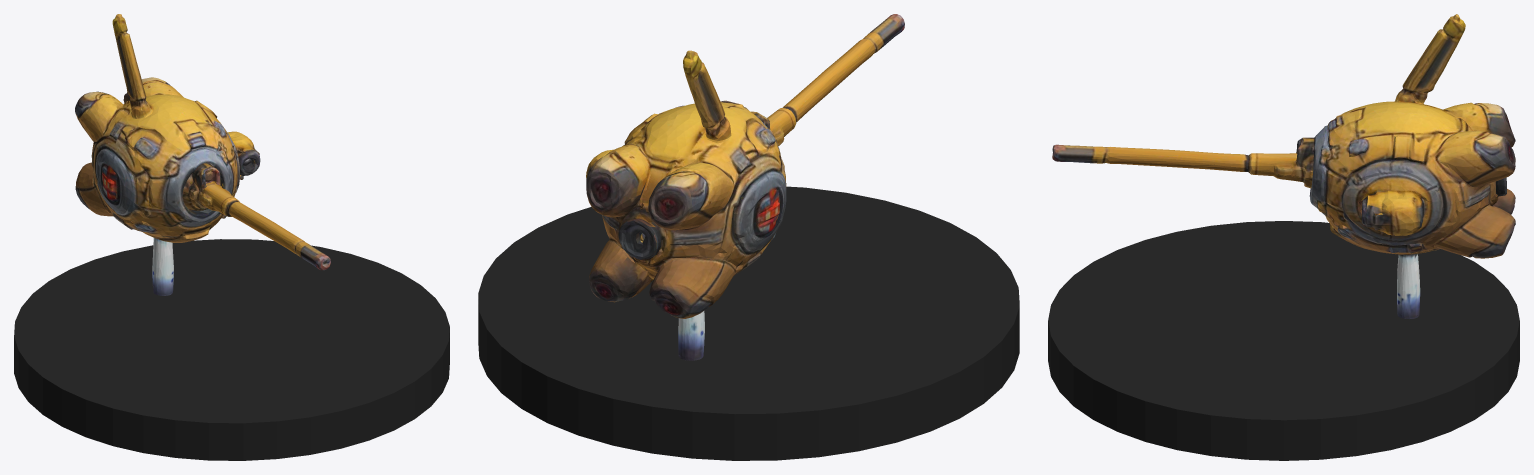
Rendered from pf-mv7-marker-drone.glb.
3 views of the same model, side by side, from view 1: azimuth 30°, elevation 25°; view 2: azimuth 150°, elevation 25°; view 3: azimuth 270°, elevation 25° (orthographic). The views are drawn at different scales.
Visible parts, largest first — view 1: base, figure; view 2: base, figure; view 3: base, figure.
Boxes of the visible parts, x1,y1,x2,y2 form: base: [14, 239, 449, 460]; figure: [75, 14, 330, 295]; base: [478, 186, 1019, 460]; figure: [586, 14, 904, 360]; base: [1048, 221, 1519, 460]; figure: [1052, 14, 1515, 318].
Bounding box in the file's own units: 1.26 × 0.97 × 1.26.
Materials: 2 (1 with a texture image).
